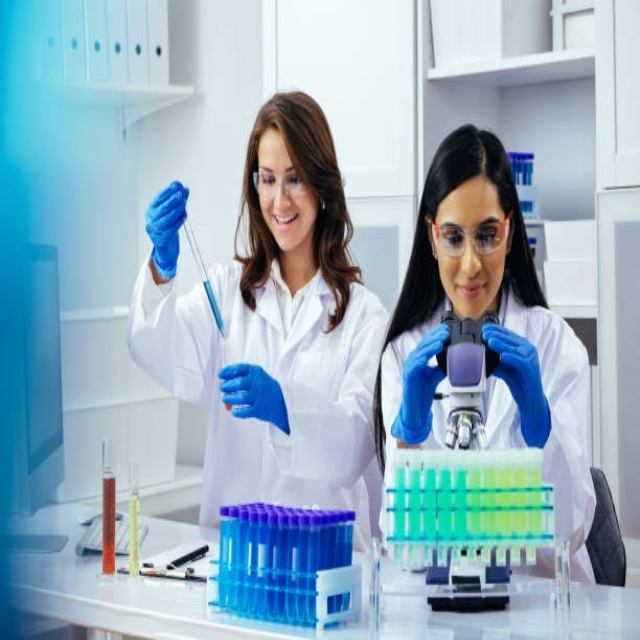Gafas: (430, 214, 509, 258), (253, 169, 314, 199)
Guantes: (481, 322, 551, 447), (390, 325, 452, 445), (217, 362, 290, 437), (144, 180, 188, 281)
Sin_mascara: (449, 275, 488, 311), (268, 210, 304, 246)
